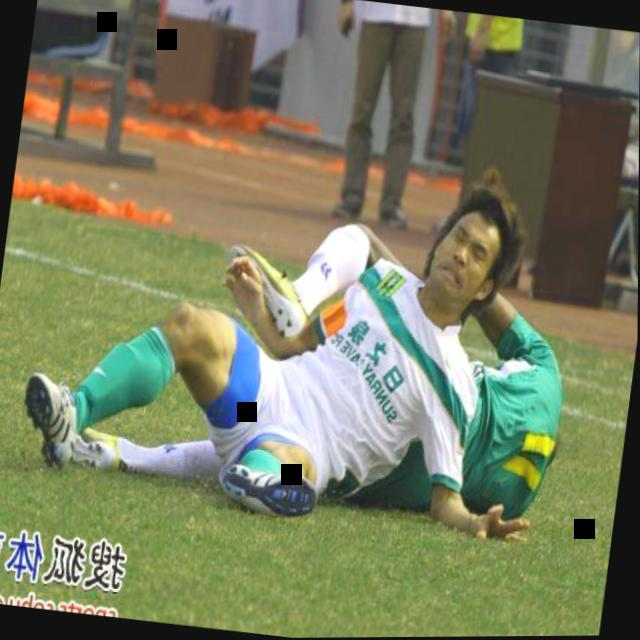Fall-Detected: (1, 118, 582, 554)
